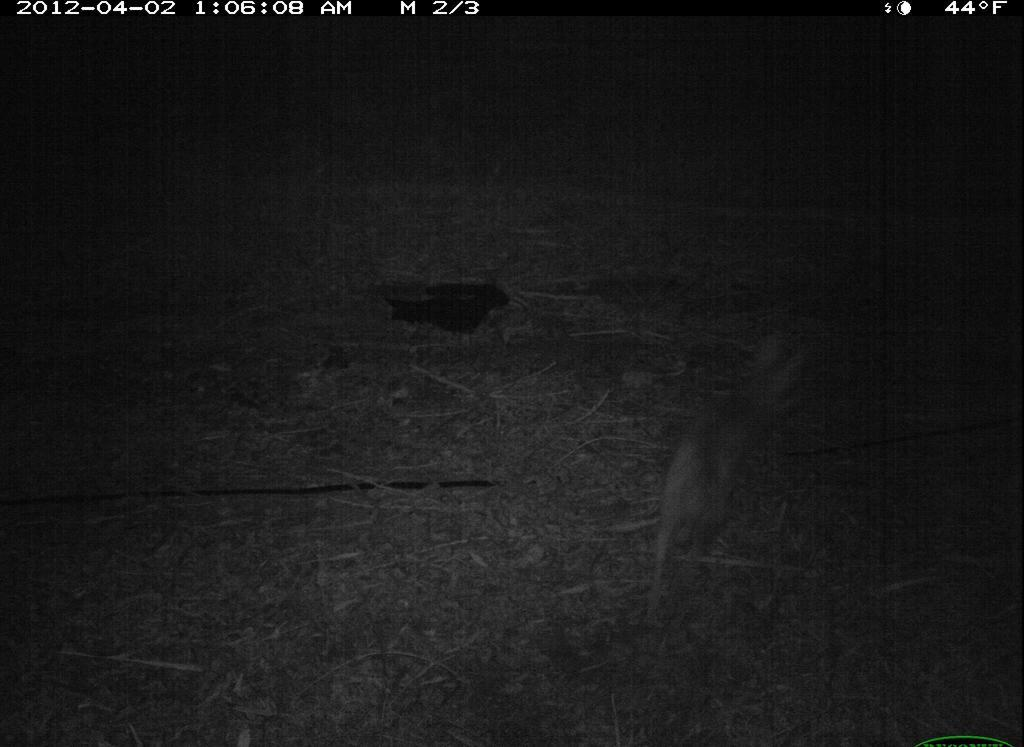coyote: (633, 314, 804, 634)
